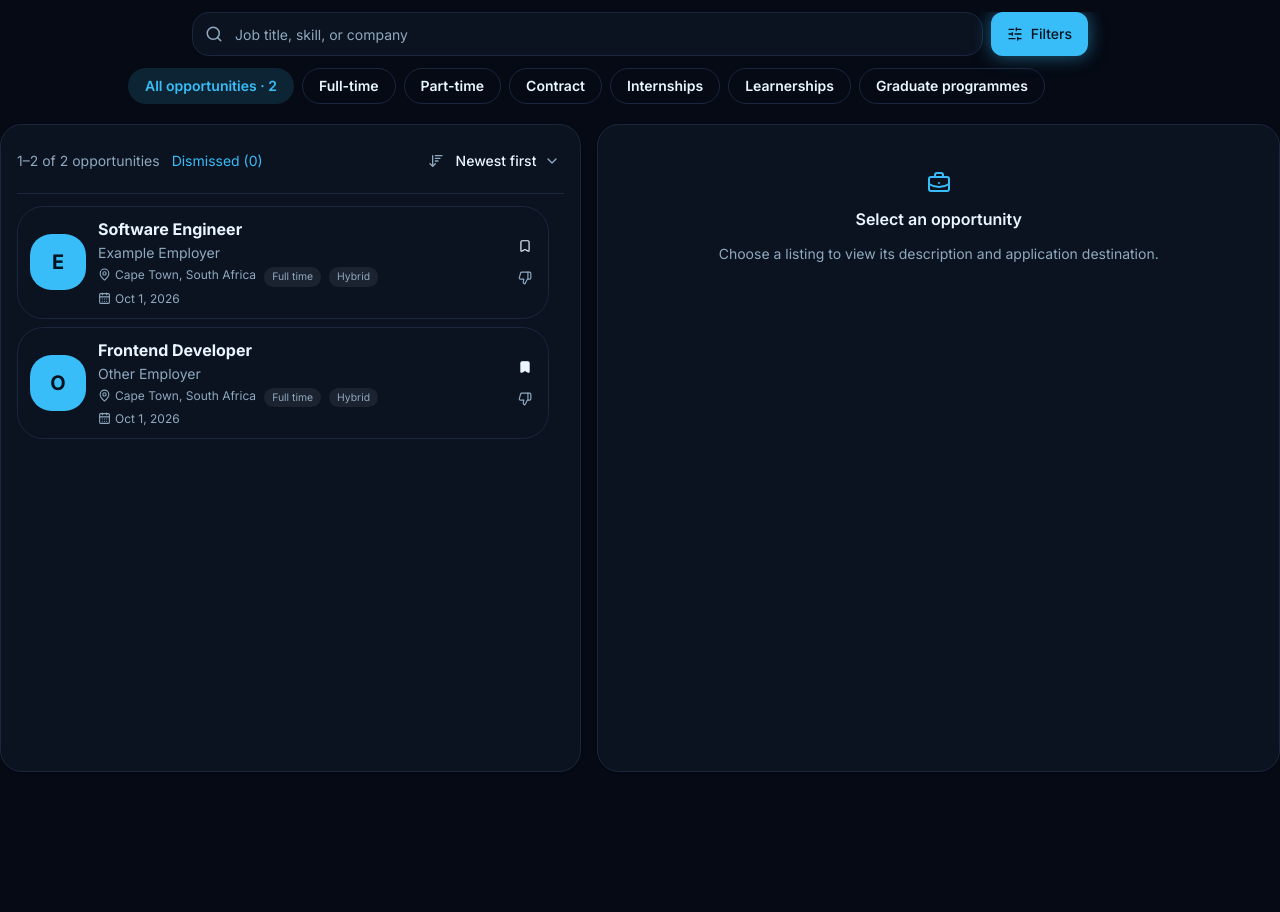
Test: Job Discovery › loads selected details and provides a single application action
Click the button with aria-label "Frontend Developer, Other Employer, Cape Town, South Africa".
click(58, 383)  # box [17,327,549,439]
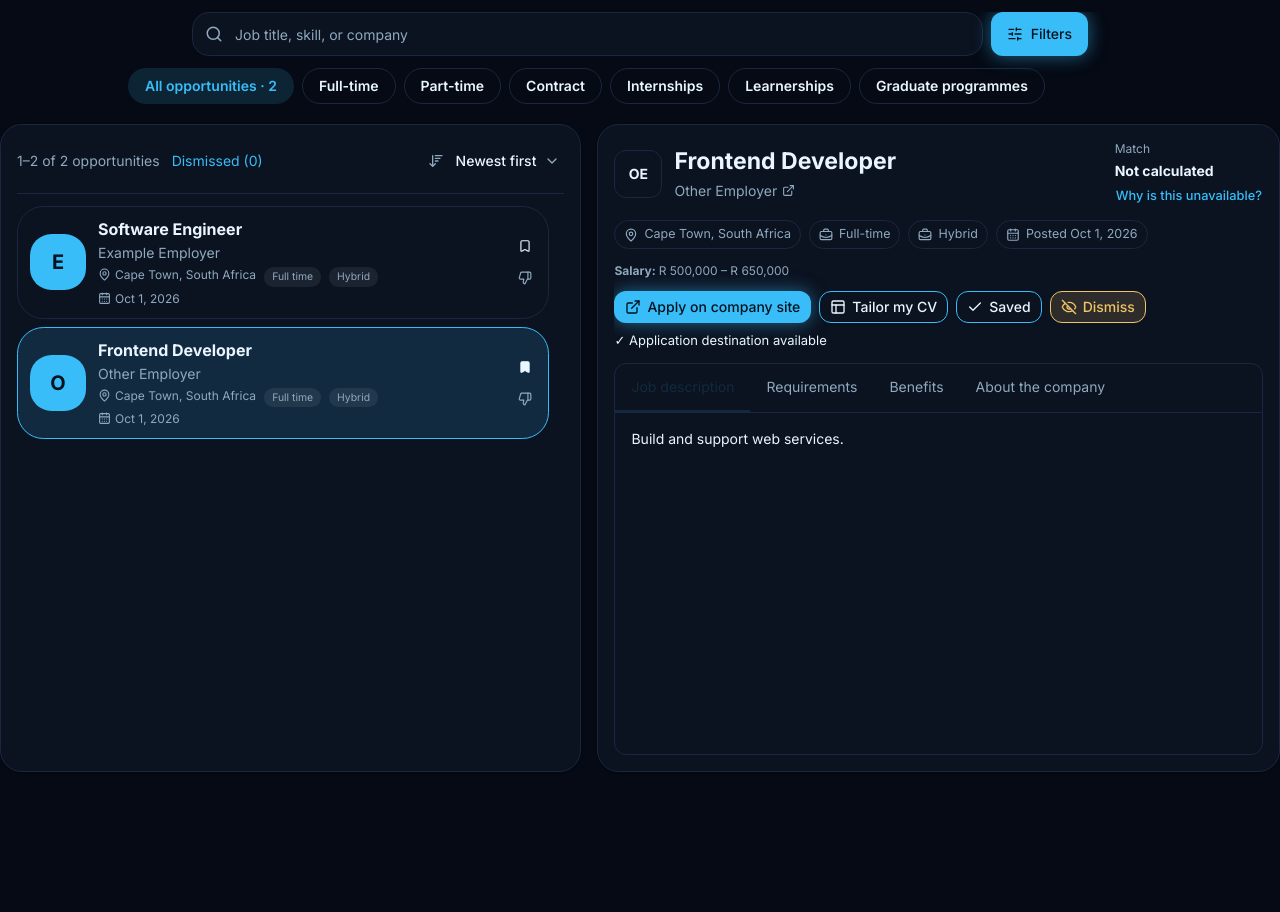
Check: the text "✓ Application destination available" is shown, box [614,332,827,348]
Check: the button "Apply on company site" is shown, box [614,291,811,323]
